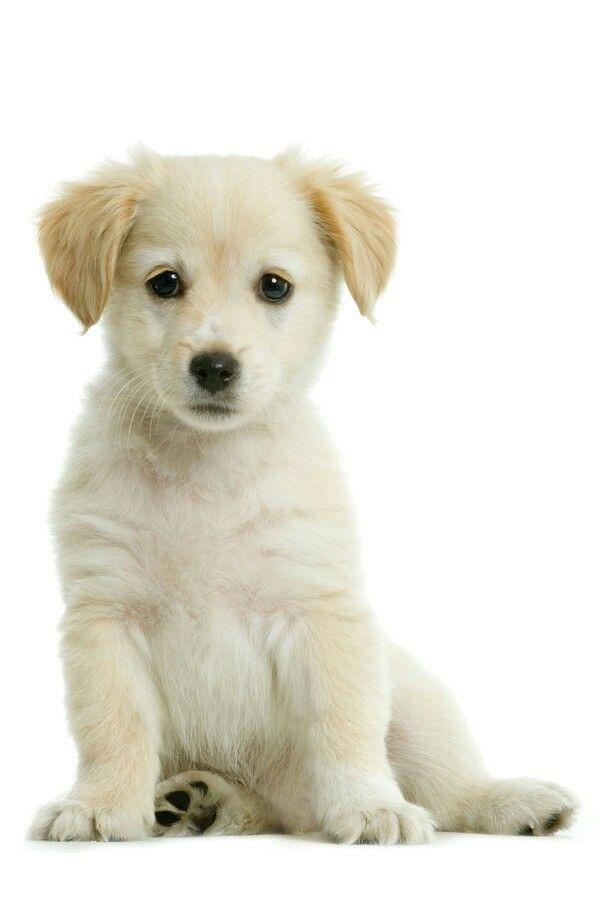puppy-dog: (26, 142, 580, 847)
